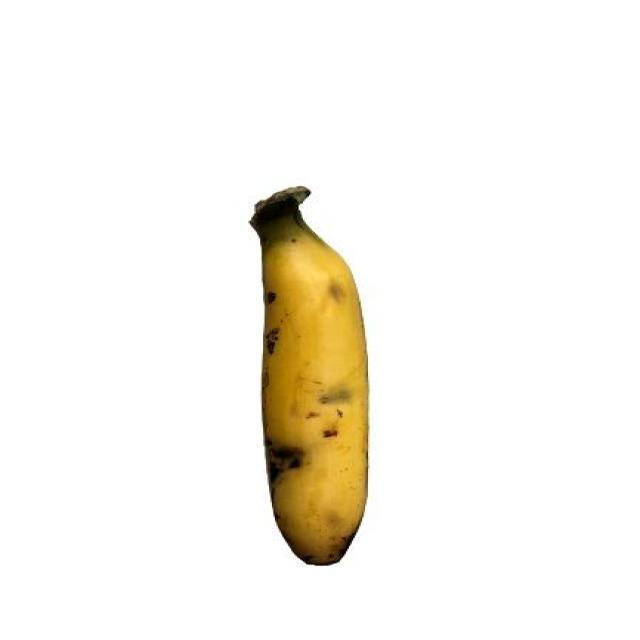banana: (256, 224, 377, 571)
